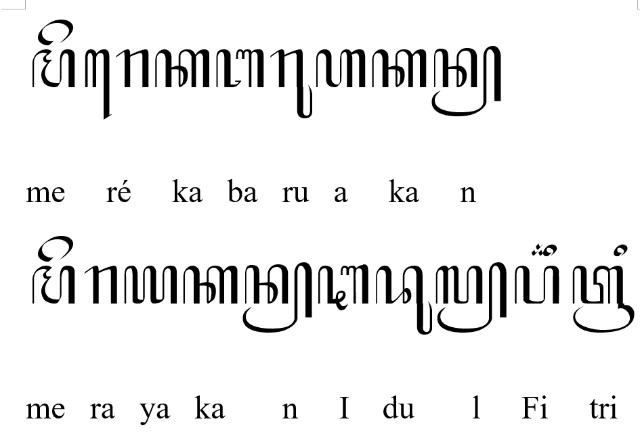-l: (434, 262, 508, 334)
-n: (431, 45, 501, 117), (242, 262, 312, 334)
I: (318, 264, 370, 312)
alt: (531, 244, 547, 256)
b: (216, 49, 264, 89)
du: (374, 265, 434, 335)
e: (37, 19, 74, 47), (37, 236, 73, 262)
e1: (85, 49, 112, 121)
h: (316, 48, 366, 88)
i: (612, 245, 628, 257), (544, 244, 556, 258)
k: (155, 48, 211, 88), (182, 265, 238, 305), (372, 48, 426, 88)
m: (32, 48, 76, 88), (31, 265, 75, 305)
p: (514, 264, 560, 306)
r: (116, 48, 150, 88), (84, 265, 118, 304)
ru: (270, 49, 312, 119)
tr: (572, 266, 634, 334)
y: (124, 266, 178, 306)
